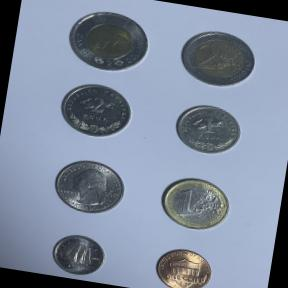1 Euro: (152, 170, 236, 237)
2 Euro: (172, 24, 262, 94)
Canda-10cent-: (46, 228, 112, 281)
Canda-2Dollar-: (58, 3, 161, 80)
Croatia-2Kune-: (52, 75, 140, 144)
US-1cent-: (149, 243, 218, 288)
US-25cent-: (48, 151, 132, 222)
